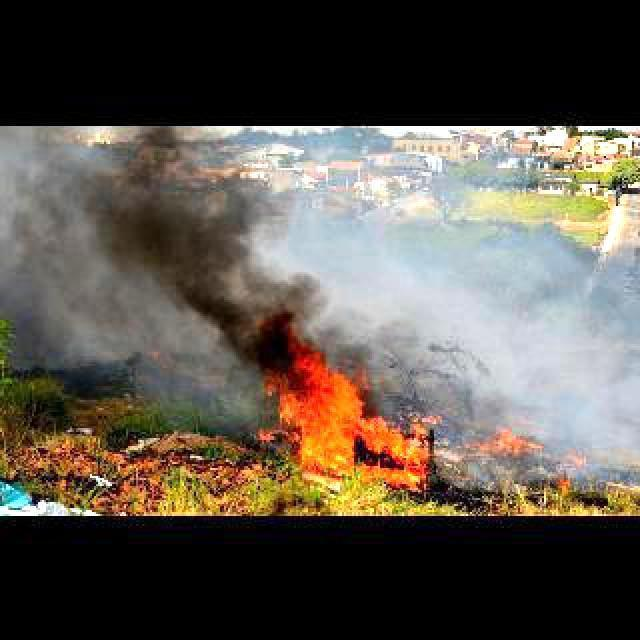Fire: (258, 349, 434, 478)
Smoke: (2, 134, 335, 428), (297, 183, 634, 448)
